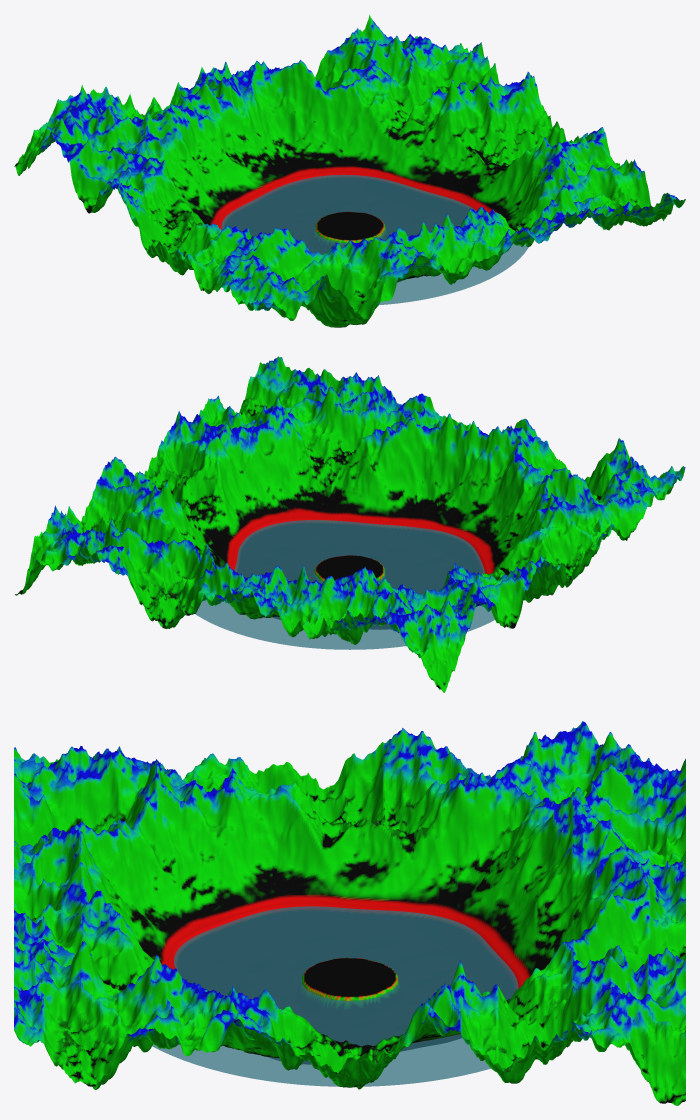
Rendered from Island.fbx.
The picture shows the model from 3 angles, top to bottom: view 1: azimuth 30°, elevation 25°; view 2: azimuth 150°, elevation 25°; view 3: azimuth 270°, elevation 25°; orthographic projection. The views are drawn at different scales.
Visible parts, largest first — view 1: Terrain, Water; view 2: Terrain, Water; view 3: Terrain, Water.
Part boxes in pixels (left/top/right/bottom): Terrain: left=14, top=14, right=685, bottom=327; Water: left=221, top=174, right=528, bottom=304; Terrain: left=15, top=356, right=685, bottom=692; Water: left=195, top=520, right=494, bottom=649; Terrain: left=14, top=721, right=685, bottom=1105; Water: left=152, top=906, right=518, bottom=1086.
Size of what is drawn, in the model's own units: 400 by 92.64 by 400.
